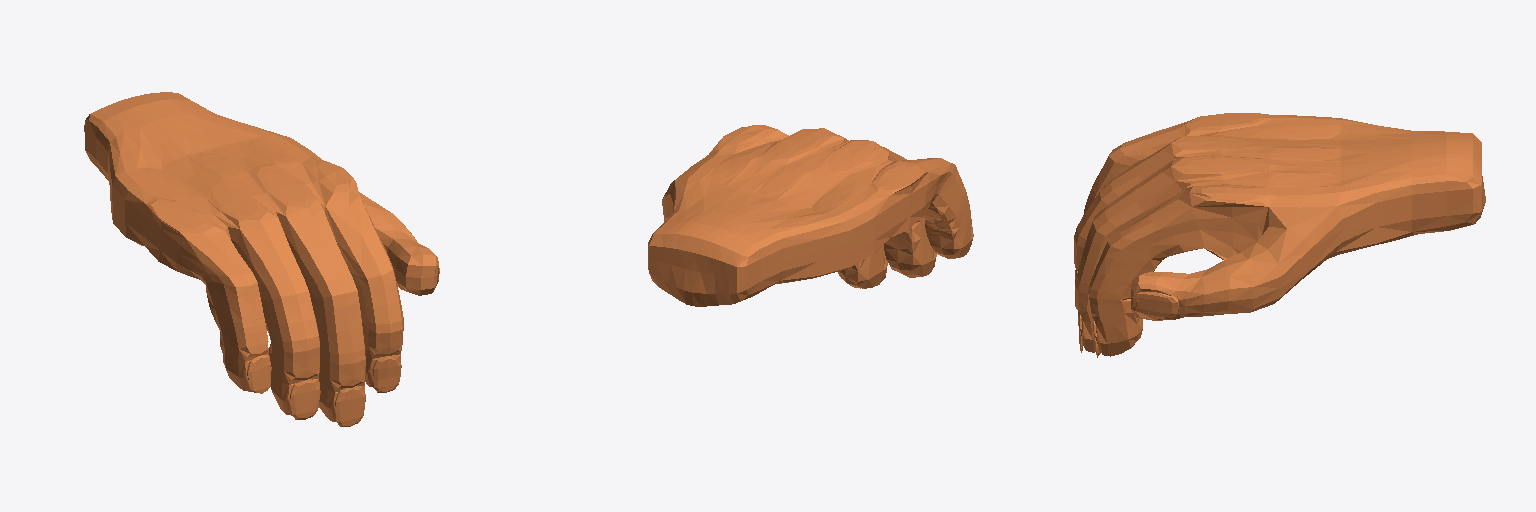
The model's file is hand5.obj.
3 renders of one model, left to right at view 1: azimuth 30°, elevation 25°; view 2: azimuth 150°, elevation 25°; view 3: azimuth 270°, elevation 25°, orthographic.
Parts seen in each view (by area): view 1: Box001; view 2: Box001; view 3: Box001.
Part boxes in pixels (bbox=[...]): Box001: bbox=[84, 92, 439, 426]; Box001: bbox=[648, 125, 973, 306]; Box001: bbox=[1074, 113, 1485, 357].
Size of the model in its own units: 196 by 151 by 290.